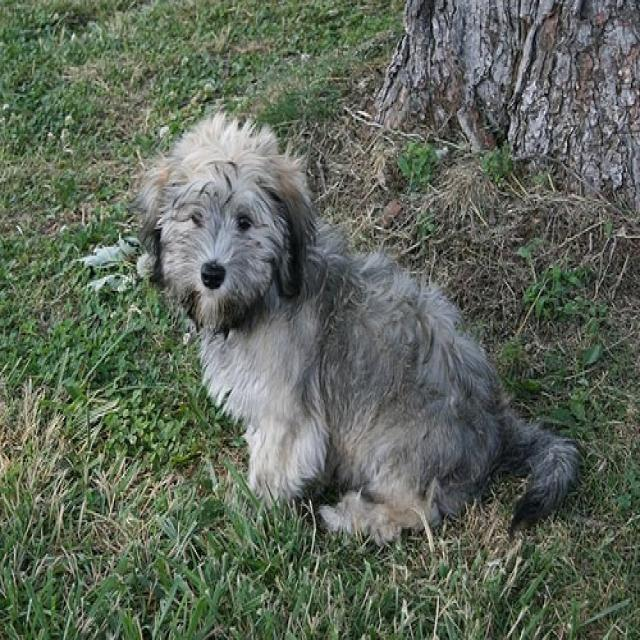dog-havanese: (120, 104, 591, 559)
